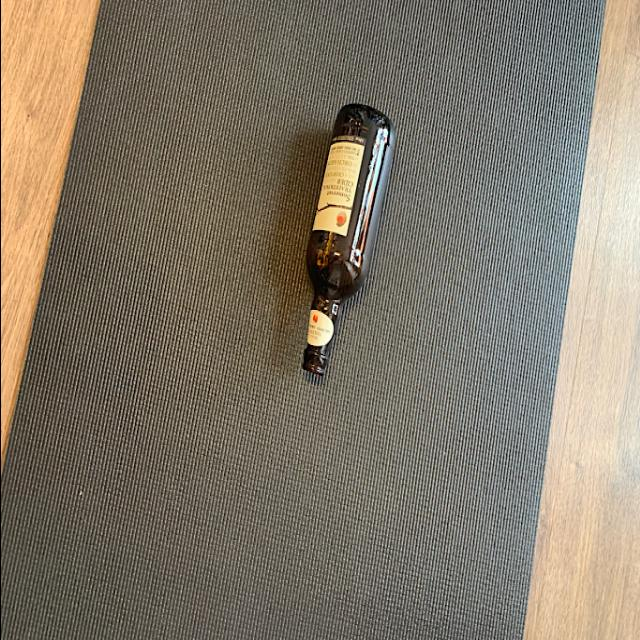litter: (294, 99, 396, 388)
